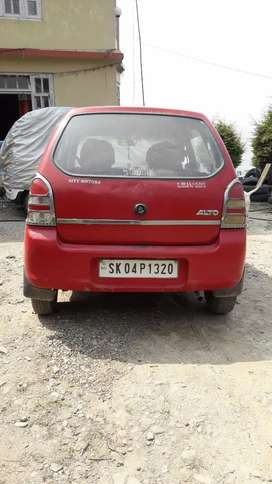SK04P1320: (99, 259, 177, 278)
